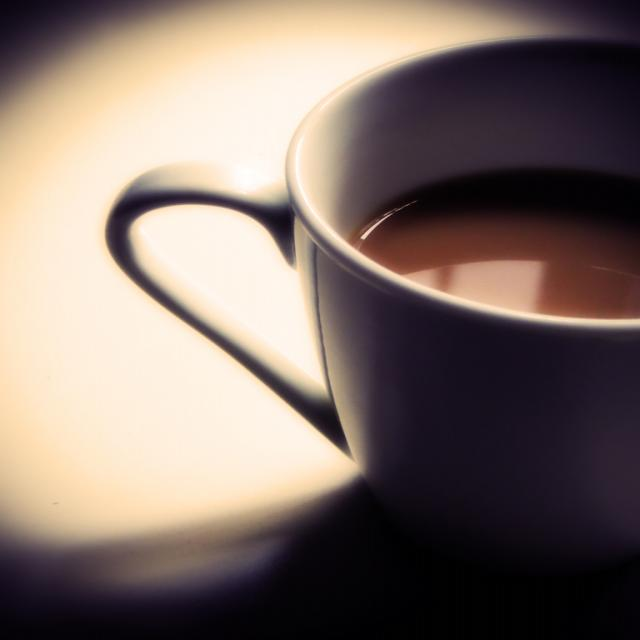Coffee: (356, 160, 639, 322)
Tea: (341, 164, 640, 318)
